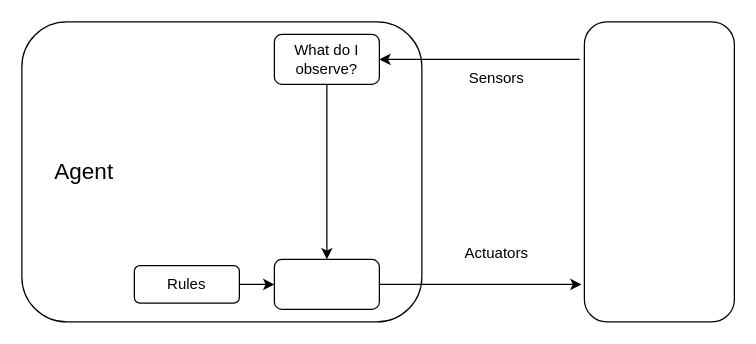
Some shapes in this 756 by 344 pixel diagram are drawn without their labels. Here are the shapes that lost their labels. From the top down, the box of each, then its label:
(583, 21, 734, 322): Environment
(273, 258, 379, 309): What should I do?
